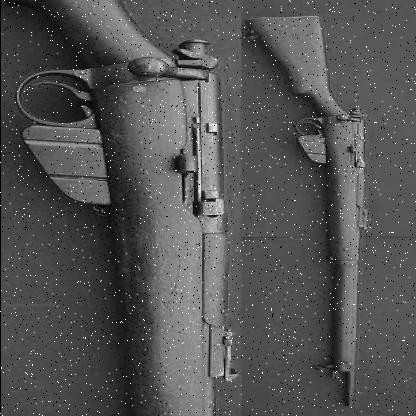rifle: (1, 0, 249, 415), (236, 13, 383, 414)
